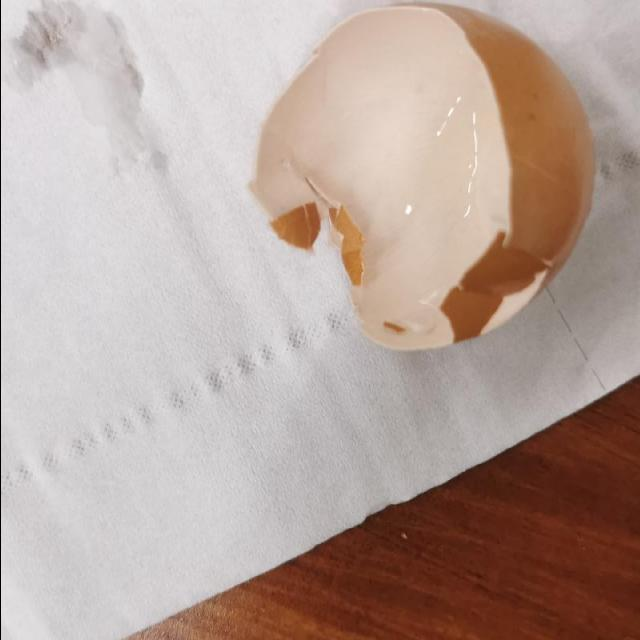egg shell: (248, 2, 592, 352)
